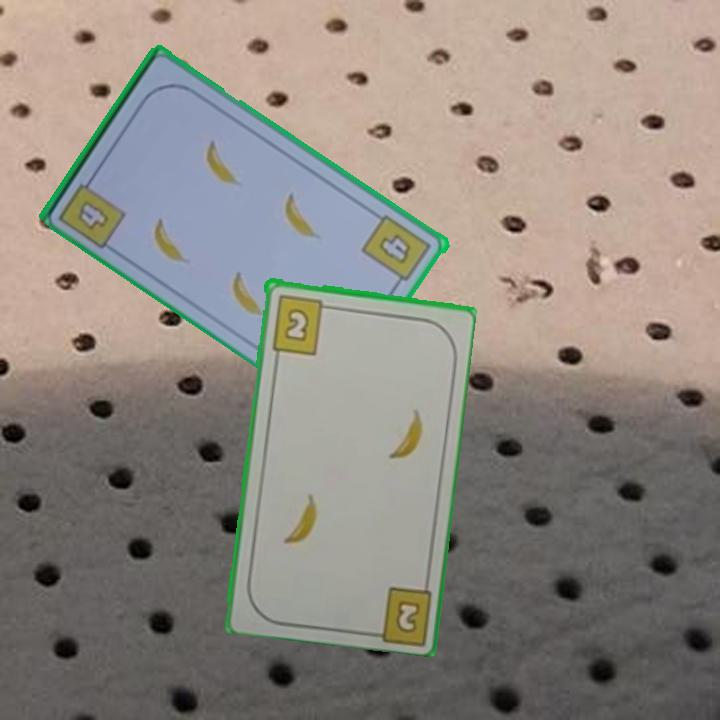2b: (267, 291, 335, 357), (391, 596, 423, 636)
4b: (359, 211, 435, 291), (74, 196, 112, 233)
